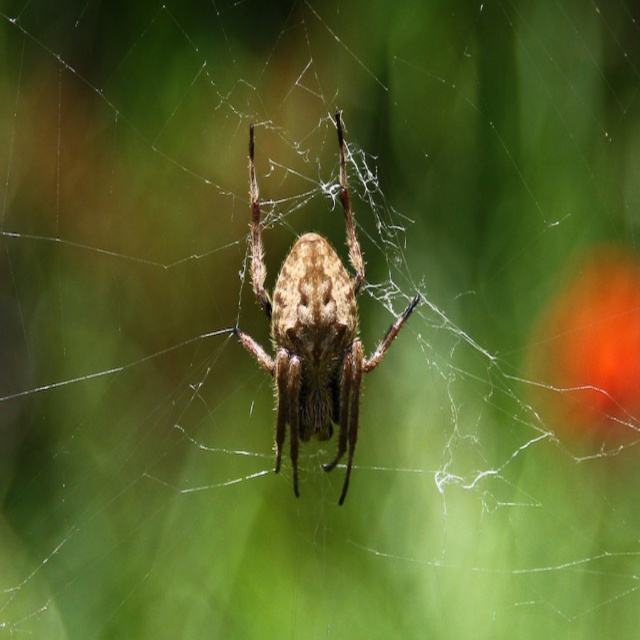Spider: (234, 110, 419, 506)
